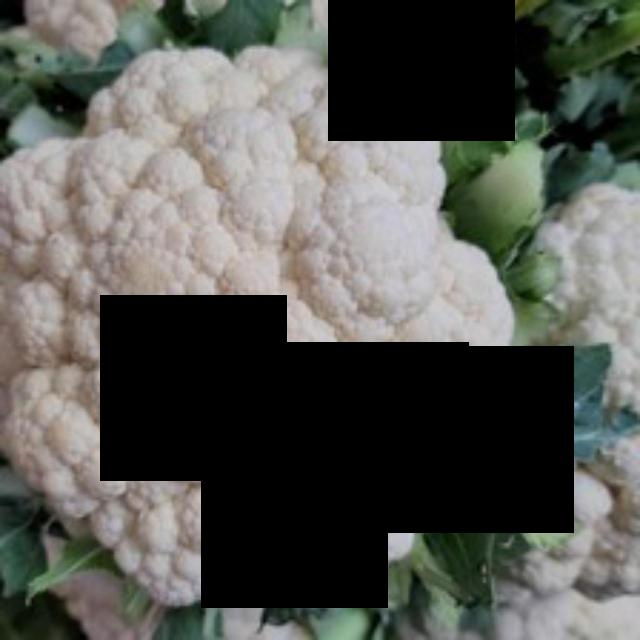cauliflower: (3, 42, 520, 637)
